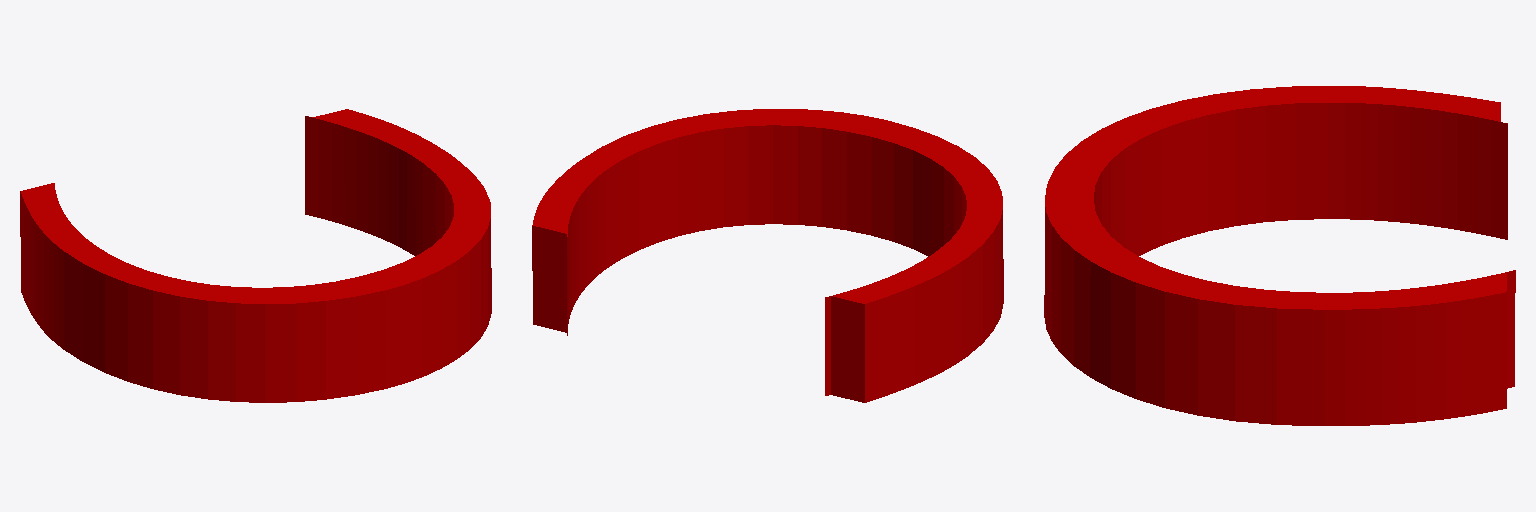
robot.urdf — letter_C:
<?xml version="0.0" ?>
<robot name="letter_C">
    <material name="red">
        <color rgba="0.799103 0.003676 0.010960 1"/>
    </material>

    <link name="baseLink">
        <!-- from lego/lego.urdf -->
        <contact>
            <lateral_friction value="1.0"/>
            <rolling_friction value="0.0"/>
            <contact_cfm value="0.0"/>
            <contact_erp value="1.0"/>
        </contact>
        <inertial>
            <origin rpy="0 0 0" xyz="0 0 0"/>
            <mass value="0.01"/>
            <inertia ixx="1" ixy="0" ixz="0" iyy="1" iyz="0" izz="1"/>
        </inertial>
        <visual>
            <origin rpy="1.57 0 0" xyz="0 0 0"/>
            <geometry>
                <!--        radius: 10mm, depth: 14.5mm-->
                <mesh filename="meshes/letter_C.obj" scale="0.018 0.018 0.018"/>
                <!--        <box size="0.002 0.002 0.002"/>-->
            </geometry>
            <material name="red"/>
        </visual>
        <collision>
            <origin rpy="1.57 0 0" xyz="0 0 0"/>
            <geometry>
                <mesh filename="meshes/letter_C_vhacd.obj" scale="0.018 0.018 0.018"/>
                       <!-- <box size="0.002 0.002 0.002"/> -->
            </geometry>
        </collision>
    </link>

    <link name="waypoint_0">
        <!--    origin-->
        <inertial>
            <origin rpy="0 0 0" xyz="0 0 0"/>
            <mass value=".0"/>
            <inertia ixx="0." ixy="0" ixz="0" iyy="0." iyz="0" izz="0."/>
        </inertial>
    </link>

    <joint name="waypoint_joint_0" type="fixed">
        <parent link="baseLink"/>
        <child link="waypoint_0"/>
        <origin rpy="0 0 1.57" xyz="0 -0.025 0.03"/>
    </joint>

    <link name="waypoint_1">
        <!--    origin-->
        <inertial>
            <origin rpy="0 0 0" xyz="0 0 0"/>
            <mass value=".0"/>
            <inertia ixx="0." ixy="0" ixz="0" iyy="0." iyz="0" izz="0."/>
        </inertial>
    </link>

    <joint name="waypoint_joint_1" type="fixed">
        <parent link="baseLink"/>
        <child link="waypoint_1"/>
        <origin rpy="0 1.57 0" xyz="0 0 0.03"/>
    </joint>
</robot>

--- What the picture shows (computed from the rendered views, not written in the file) ---
3 views of the same robot in one strip: view 1: azimuth 30°, elevation 25°; view 2: azimuth 150°, elevation 25°; view 3: azimuth 270°, elevation 25° (orthographic).
Model letter_C with 3 links and 2 joints (2 fixed), rooted at baseLink, posed every joint at zero.
Visible links, largest first — view 1: baseLink; view 2: baseLink; view 3: baseLink.
Boxes of the visible links, x1,y1,x2,y2 form: baseLink: [20, 109, 491, 402]; baseLink: [532, 109, 1003, 402]; baseLink: [1044, 86, 1515, 425].
Size in the robot's own frame: 0.0475 by 0.0422 by 0.0116 metres.
Meshes: 1 distinct files referenced, 1 mesh visuals loaded (1 OBJ).